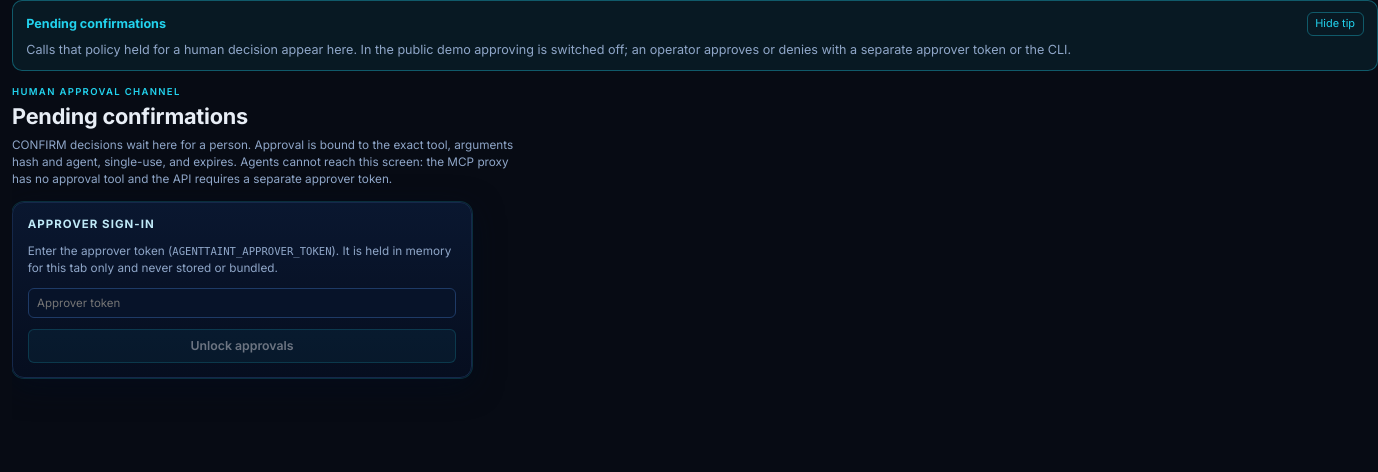
Test case: Confirmations approval screen › explains an unreachable API instead of a raw network error
The image size is (1378, 472).
Type "t" into the password field labelled "Approver token" at (242, 303), box [28, 288, 456, 318]
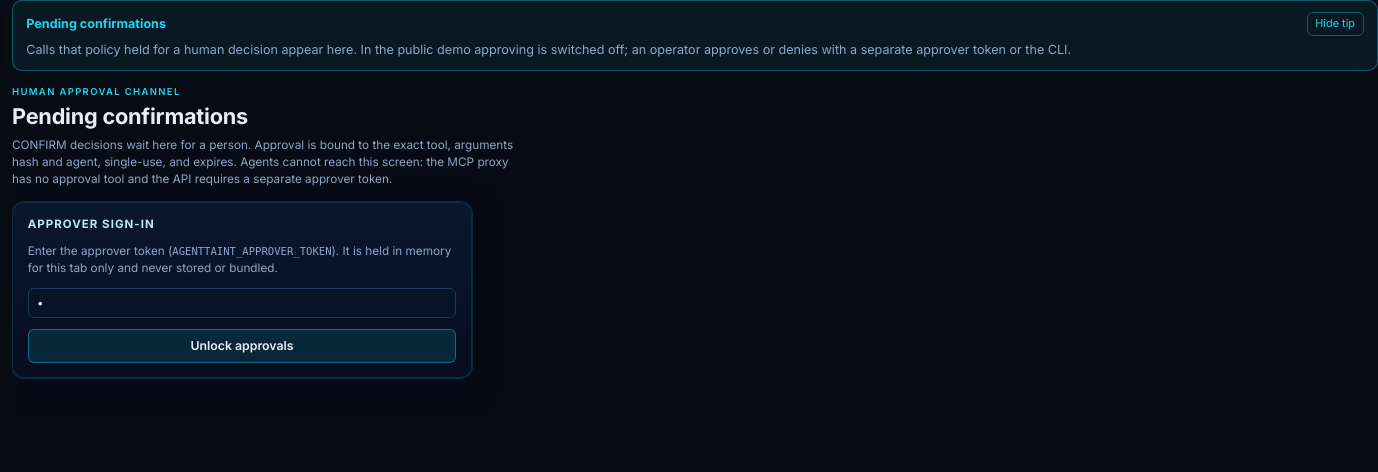
Click the button "Unlock approvals" at (242, 346), box [28, 329, 456, 363]
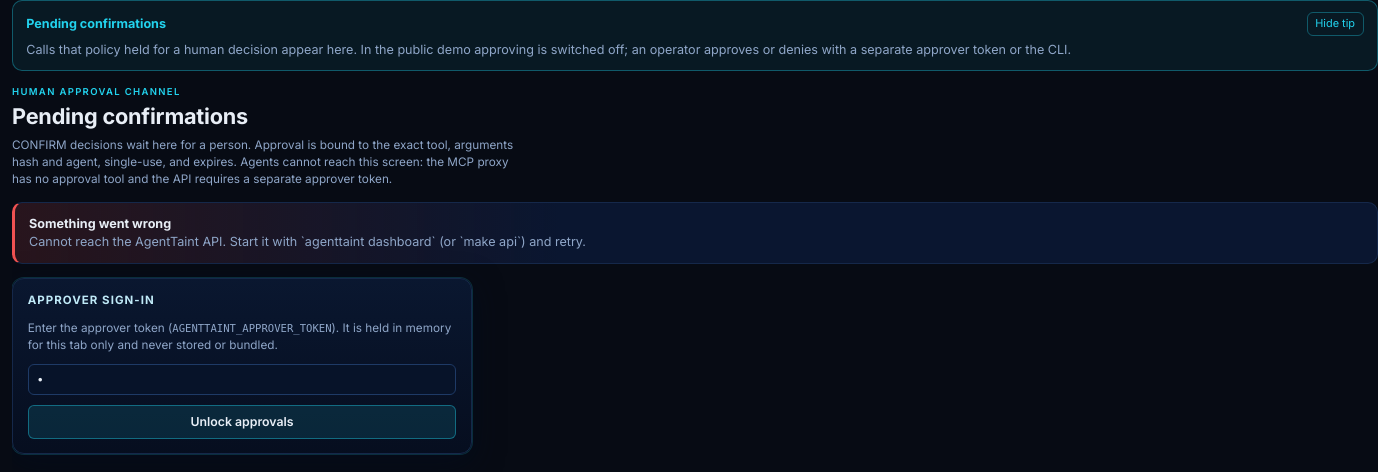
Now the text "Cannot reach the AgentTaint API" is shown, box [29, 234, 586, 249]
